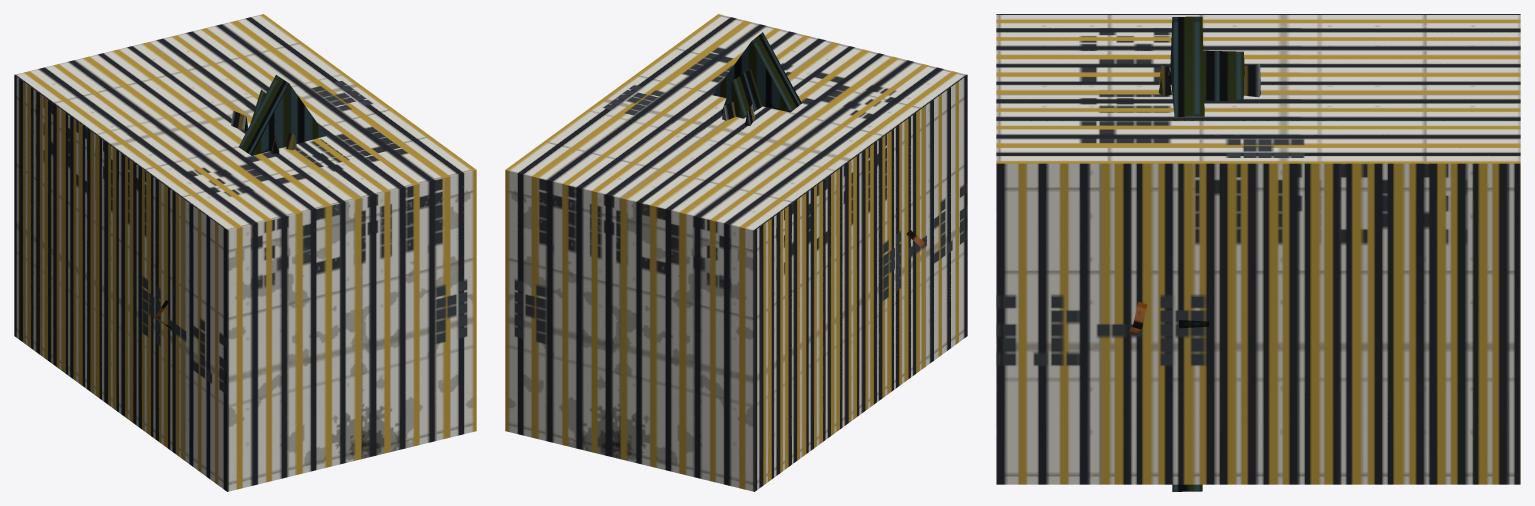
Rendered from sensor_mast.glb.
The picture shows the model from 3 angles, left to right: view 1: azimuth 30°, elevation 25°; view 2: azimuth 150°, elevation 25°; view 3: azimuth 270°, elevation 25°; orthographic projection. The views are drawn at different scales.
Parts seen in each view (by area): view 1: merged-ededea, merged-263c43, merged-646a6c; view 2: merged-ededea, merged-263c43; view 3: merged-ededea, merged-263c43, merged-646a6c.
Boxes of the visible parts, left/top/right/bottom form: merged-ededea: left=14, top=14, right=476, bottom=491; merged-263c43: left=239, top=75, right=326, bottom=155; merged-646a6c: left=231, top=110, right=296, bottom=153; merged-ededea: left=505, top=14, right=967, bottom=491; merged-263c43: left=712, top=32, right=801, bottom=118; merged-ededea: left=996, top=14, right=1520, bottom=484; merged-263c43: left=1170, top=16, right=1244, bottom=491; merged-646a6c: left=1158, top=64, right=1260, bottom=97.
Size of the model in its own units: 14.63 by 19.51 by 19.51.
Materials: 6 (5 with a texture image).
